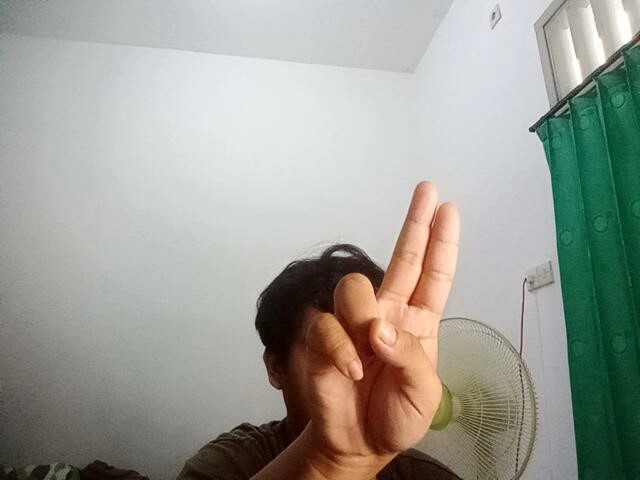U: (291, 173, 466, 462)
